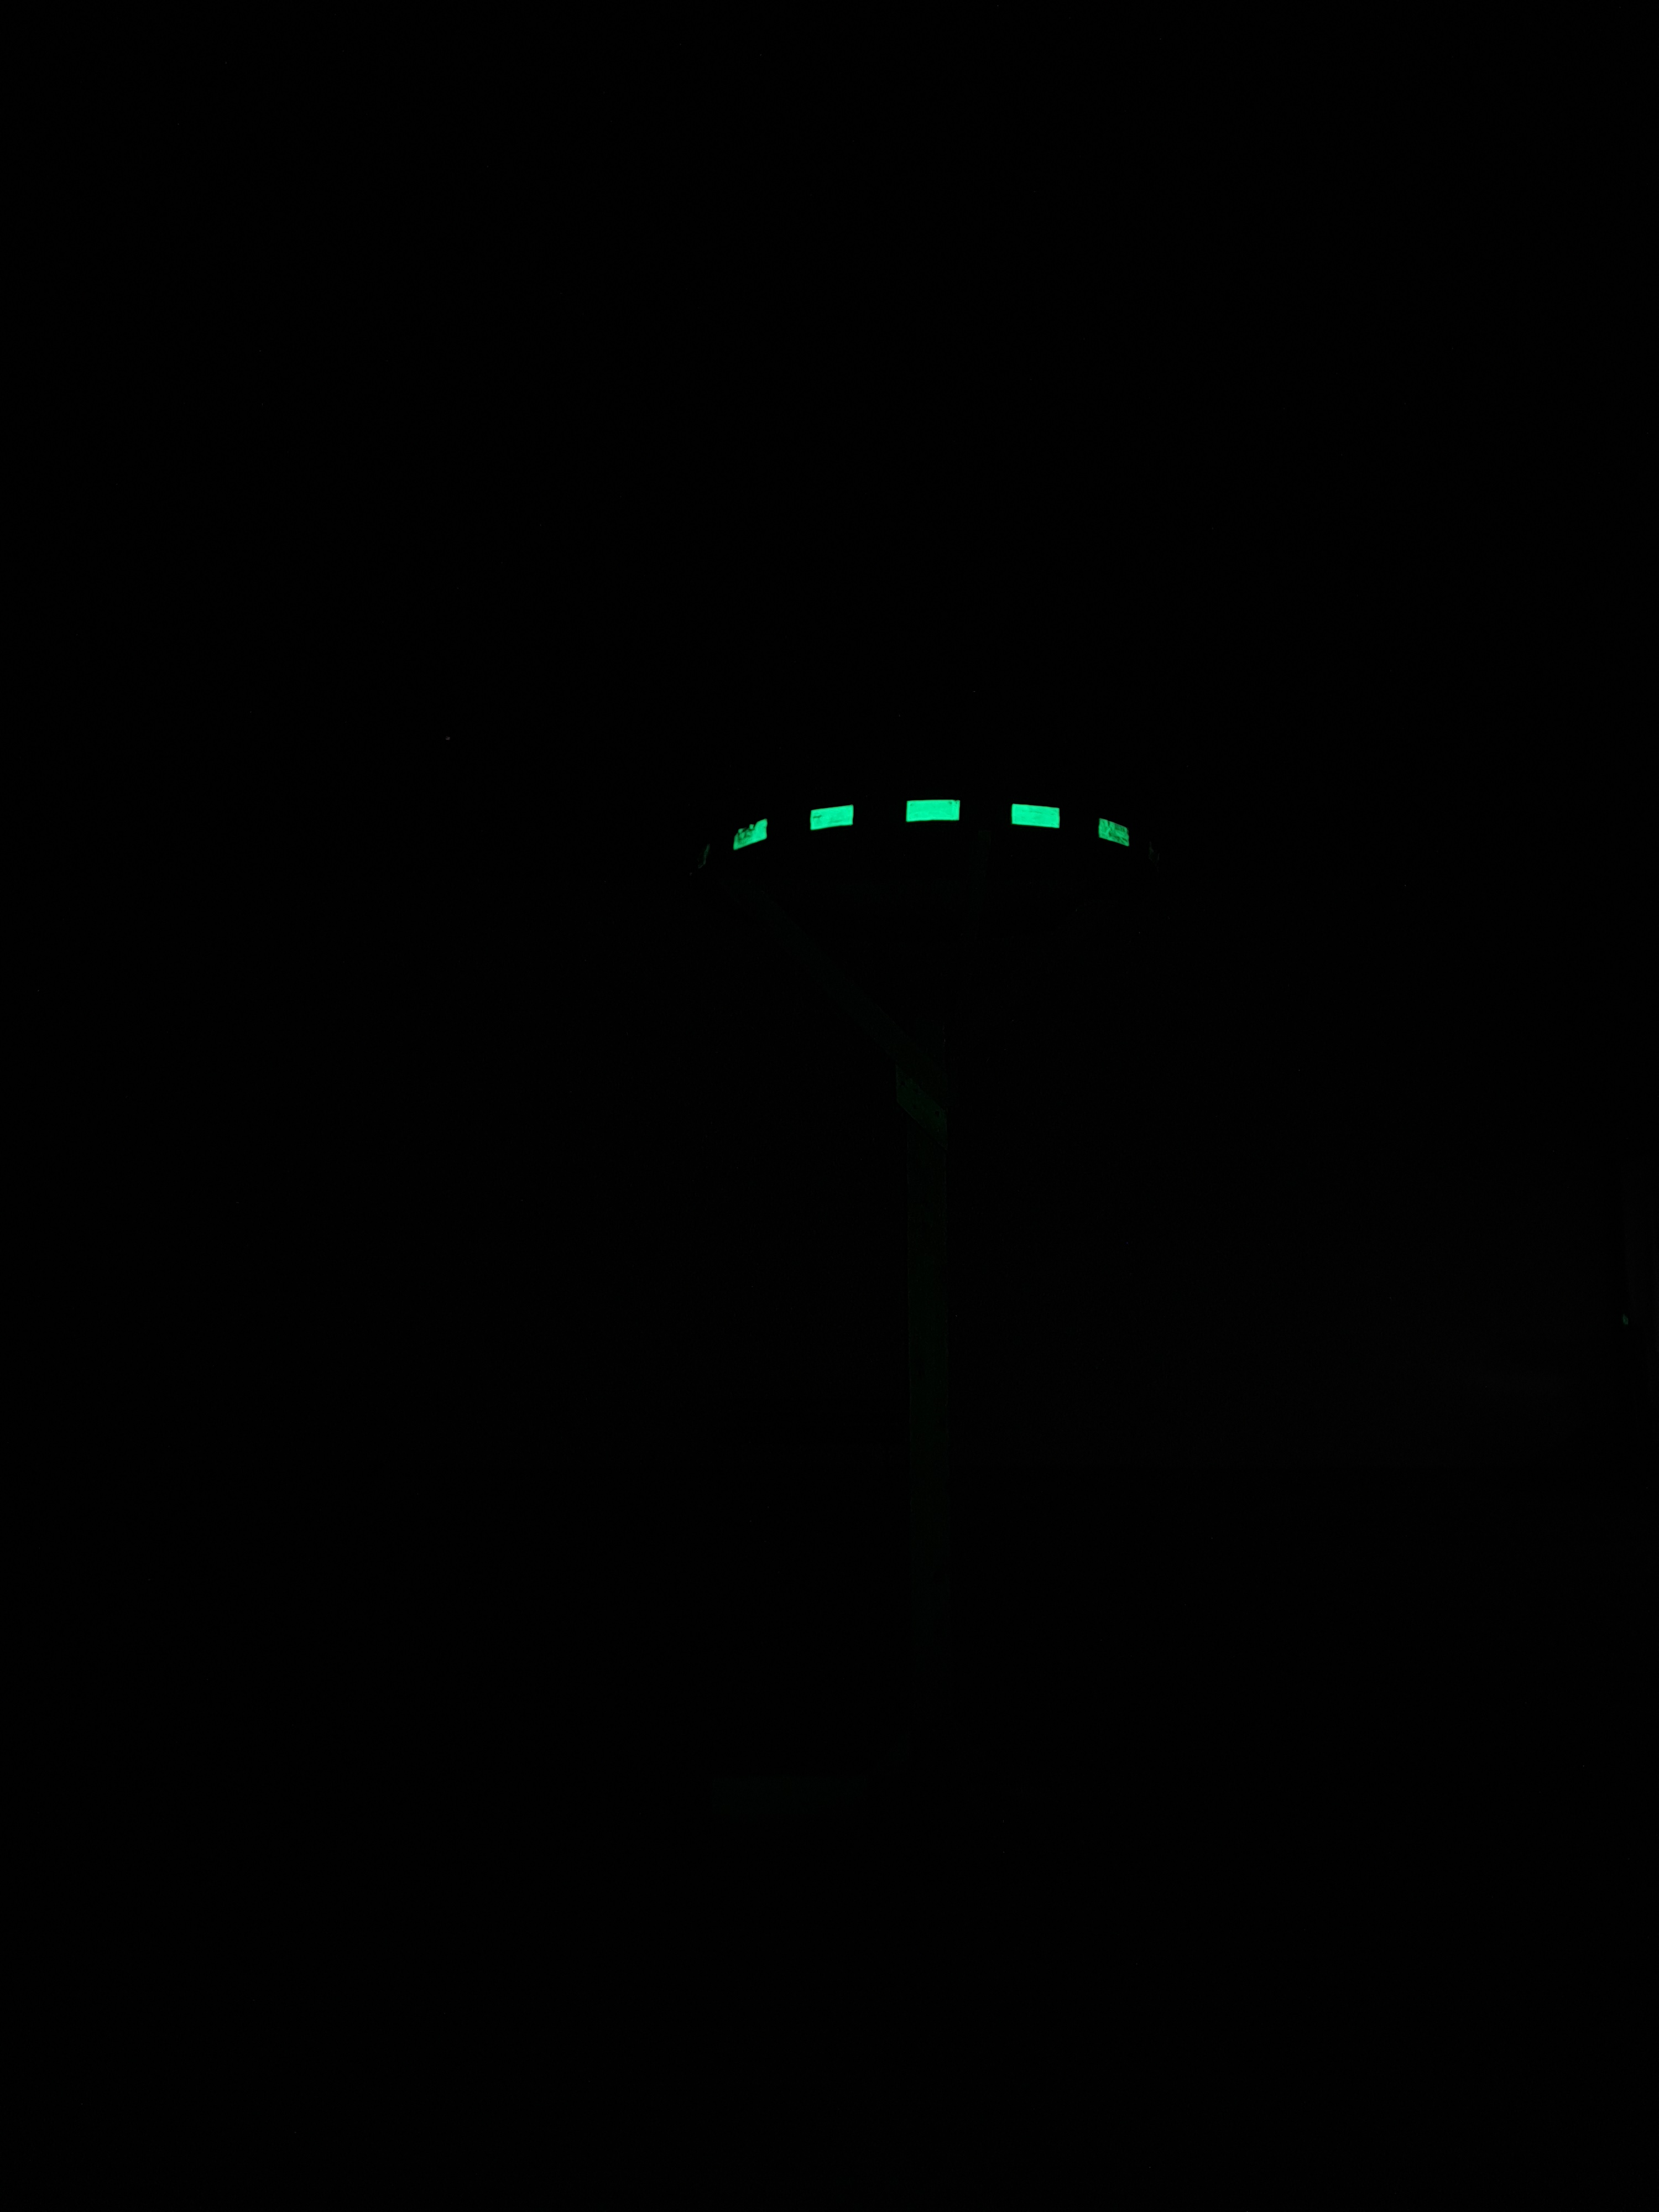hoop: (727, 792, 1138, 874)
